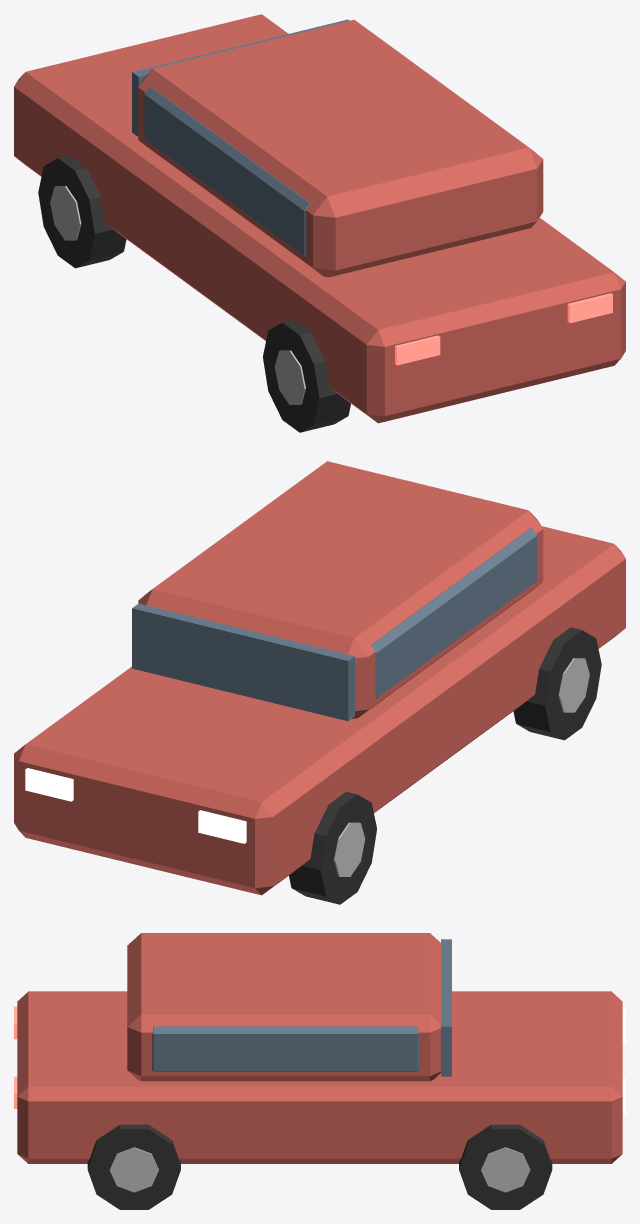
File: car.glb
3 renders of one model, top to bottom at view 1: azimuth 30°, elevation 25°; view 2: azimuth 150°, elevation 25°; view 3: azimuth 270°, elevation 25°, orthographic. The views are drawn at different scales.
Parts seen in each view (by area): view 1: body, cabin, glassSide, wheel.002, wheel.003, rim.002, rim.003, glassFront, taillight.001, taillight; view 2: body, cabin, glassFront, glassSide, wheel.003, wheel.002, rim.003, rim.002, headlight.001, headlight; view 3: body, cabin, glassSide, wheel, wheel.001, rim, rim.001, glassFront.
Part boxes in pixels (box(x1,y1,x2,y2)): body: box(14, 14, 625, 423); cabin: box(138, 19, 543, 277); glassSide: box(144, 86, 536, 256); wheel.002: box(38, 155, 126, 268); wheel.003: box(263, 319, 350, 432); rim.002: box(50, 186, 81, 240); rim.003: box(274, 350, 305, 404); glassFront: box(132, 19, 349, 136); taillight.001: box(395, 335, 440, 365); taillight: box(567, 293, 612, 323); body: box(14, 526, 625, 895); cabin: box(138, 461, 543, 718); glassFront: box(132, 603, 354, 721); glassSide: box(144, 528, 537, 698); wheel.003: box(513, 627, 601, 740); wheel.002: box(289, 791, 376, 904); rim.003: box(558, 658, 589, 712); rim.002: box(334, 822, 365, 876); headlight.001: box(198, 810, 246, 843); headlight: box(25, 768, 73, 801); body: box(17, 991, 622, 1163); cabin: box(127, 933, 440, 1081); glassSide: box(152, 1026, 418, 1071); wheel: box(459, 1124, 552, 1209); wheel.001: box(87, 1124, 180, 1209); rim: box(481, 1147, 530, 1192); rim.001: box(109, 1147, 158, 1192); glassFront: box(441, 939, 451, 1076).
Size of the model in its own units: 1.98 by 1.44 by 4.45.
